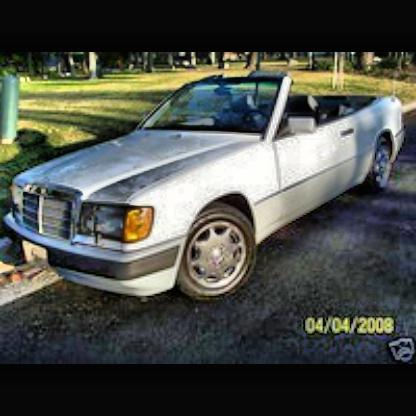Mercedes-Benz 300-Class Convertible 1993: (5, 72, 408, 313)
